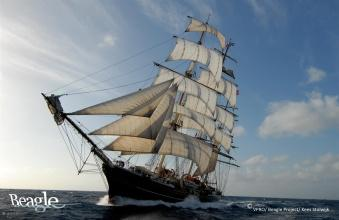fanchuan: (44, 15, 242, 204)
